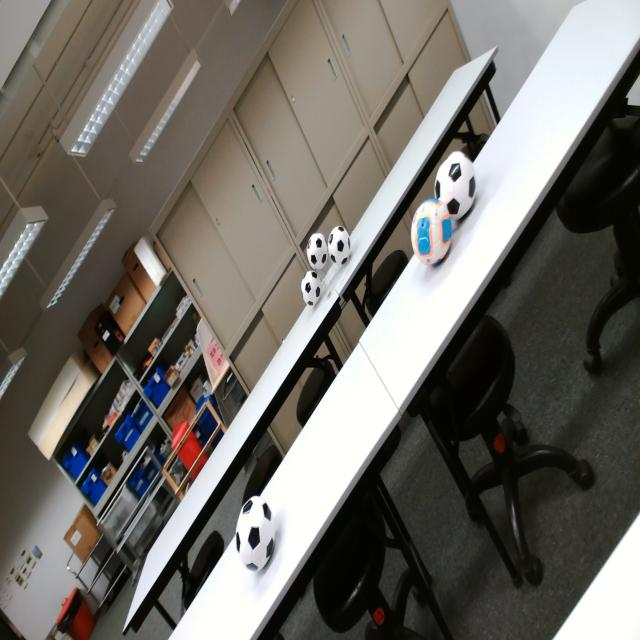ball: (435, 149, 475, 223), (236, 496, 274, 572), (412, 197, 452, 267), (328, 224, 352, 270), (308, 233, 328, 270), (302, 272, 321, 306)
